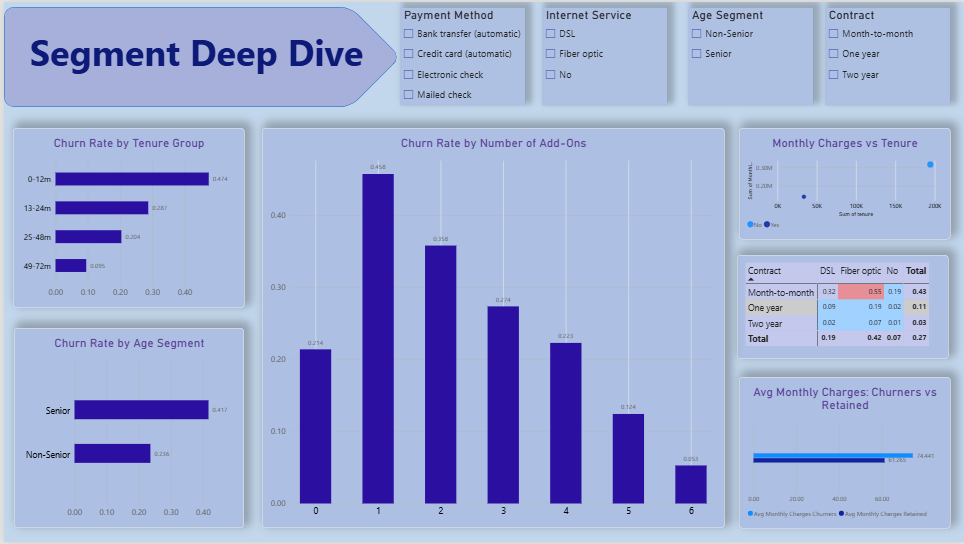

Layout of this report page (visuals, bound fields, positions):
{"tool":"powerbi","page":{"name":"Segment Deep Dive","canvas":[1920,1080],"ordinal":1},"visuals":[{"type":"shape","box":[0,10.7,793.3,200],"z":0,"group":"g1"},{"type":"pivotTable","fields":{"Columns":["customer_churn.InternetService"],"Rows":["customer_churn.Contract"],"Values":["_Measures.Churn Rate"]},"box":[1466.7,506.7,422.5,207.5],"z":1000},{"type":"clusteredBarChart","title":"Avg Monthly Charges: Churners vs Retained","fields":{"Y":["_Measures.Avg Monthly Charges Churners","_Measures.Avg Monthly Charges Retained"]},"box":[1470,750,422.5,302.5],"z":2000},{"type":"clusteredColumnChart","title":"Churn Rate by Number of Add-Ons","fields":{"Category":["customer_churn.NumAddOns"],"Y":["_Measures.Churn Rate"]},"box":[515,252.5,925,800],"z":3000},{"type":"clusteredBarChart","title":"Churn Rate by Tenure Group","fields":{"Category":["customer_churn.TenureGroup"],"Y":["_Measures.Churn Rate"]},"box":[17.5,252.5,462.5,360],"z":4000},{"type":"clusteredBarChart","title":"Churn Rate by Age Segment","fields":{"Category":["customer_churn.AgeSegment"],"Y":["_Measures.Churn Rate"]},"box":[20,652.5,460,400],"z":5000},{"type":"scatterChart","title":"Monthly Charges vs Tenure","fields":{"Series":["customer_churn.Churn"],"Size":["CountNonNull(customer_churn.TotalCharges)"],"X":["customer_churn.tenure"],"Y":["customer_churn.MonthlyCharges"]},"box":[1470,252.5,422.5,222.5],"z":6000},{"type":"slicer","fields":{"Values":["customer_churn.Contract"]},"box":[1642.5,12.5,251,195],"z":7000},{"type":"slicer","fields":{"Values":["customer_churn.InternetService"]},"box":[1075,12.5,251,195],"z":8000},{"type":"slicer","fields":{"Values":["customer_churn.PaymentMethod"]},"box":[792.5,12.5,251,195],"z":9000},{"type":"slicer","fields":{"Values":["customer_churn.AgeSegment"]},"box":[1367.5,12.5,251,195],"z":10000},{"type":"textbox","box":[30,51.6,710,105],"z":11000,"group":"g1"},{"type":"group","id":"g1","title":"Group 1","box":[0,10.7,793.3,200],"z":11001}]}

Visuals, with their boxes in screenshot pixels (x1, y1, x2, y2), scaled from the page's 1920x1080 canvas onto the 964x544 screenshot:
shape: bbox=(0, 5, 398, 106)
pivotTable - customer_churn.InternetService x customer_churn.Contract: bbox=(736, 255, 949, 360)
"Avg Monthly Charges: Churners vs Retained" clusteredBarChart: bbox=(738, 378, 950, 530)
"Churn Rate by Number of Add-Ons" clusteredColumnChart: bbox=(259, 127, 723, 530)
"Churn Rate by Tenure Group" clusteredBarChart: bbox=(9, 127, 241, 309)
"Churn Rate by Age Segment" clusteredBarChart: bbox=(10, 329, 241, 530)
"Monthly Charges vs Tenure" scatterChart: bbox=(738, 127, 950, 239)
slicer - customer_churn.Contract: bbox=(825, 6, 951, 105)
slicer - customer_churn.InternetService: bbox=(540, 6, 666, 105)
slicer - customer_churn.PaymentMethod: bbox=(398, 6, 524, 105)
slicer - customer_churn.AgeSegment: bbox=(687, 6, 813, 105)
textbox: bbox=(15, 26, 372, 79)
"Group 1" group: bbox=(0, 5, 398, 106)
